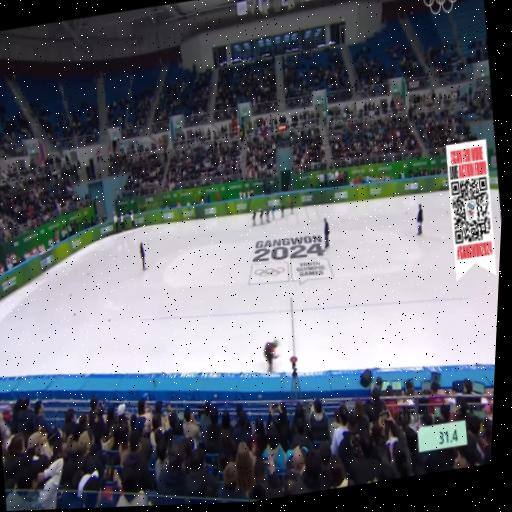Skater: (265, 340, 278, 371), (247, 207, 258, 227), (255, 205, 265, 227), (277, 200, 288, 220), (286, 197, 296, 217), (268, 201, 277, 222), (263, 204, 272, 224)
